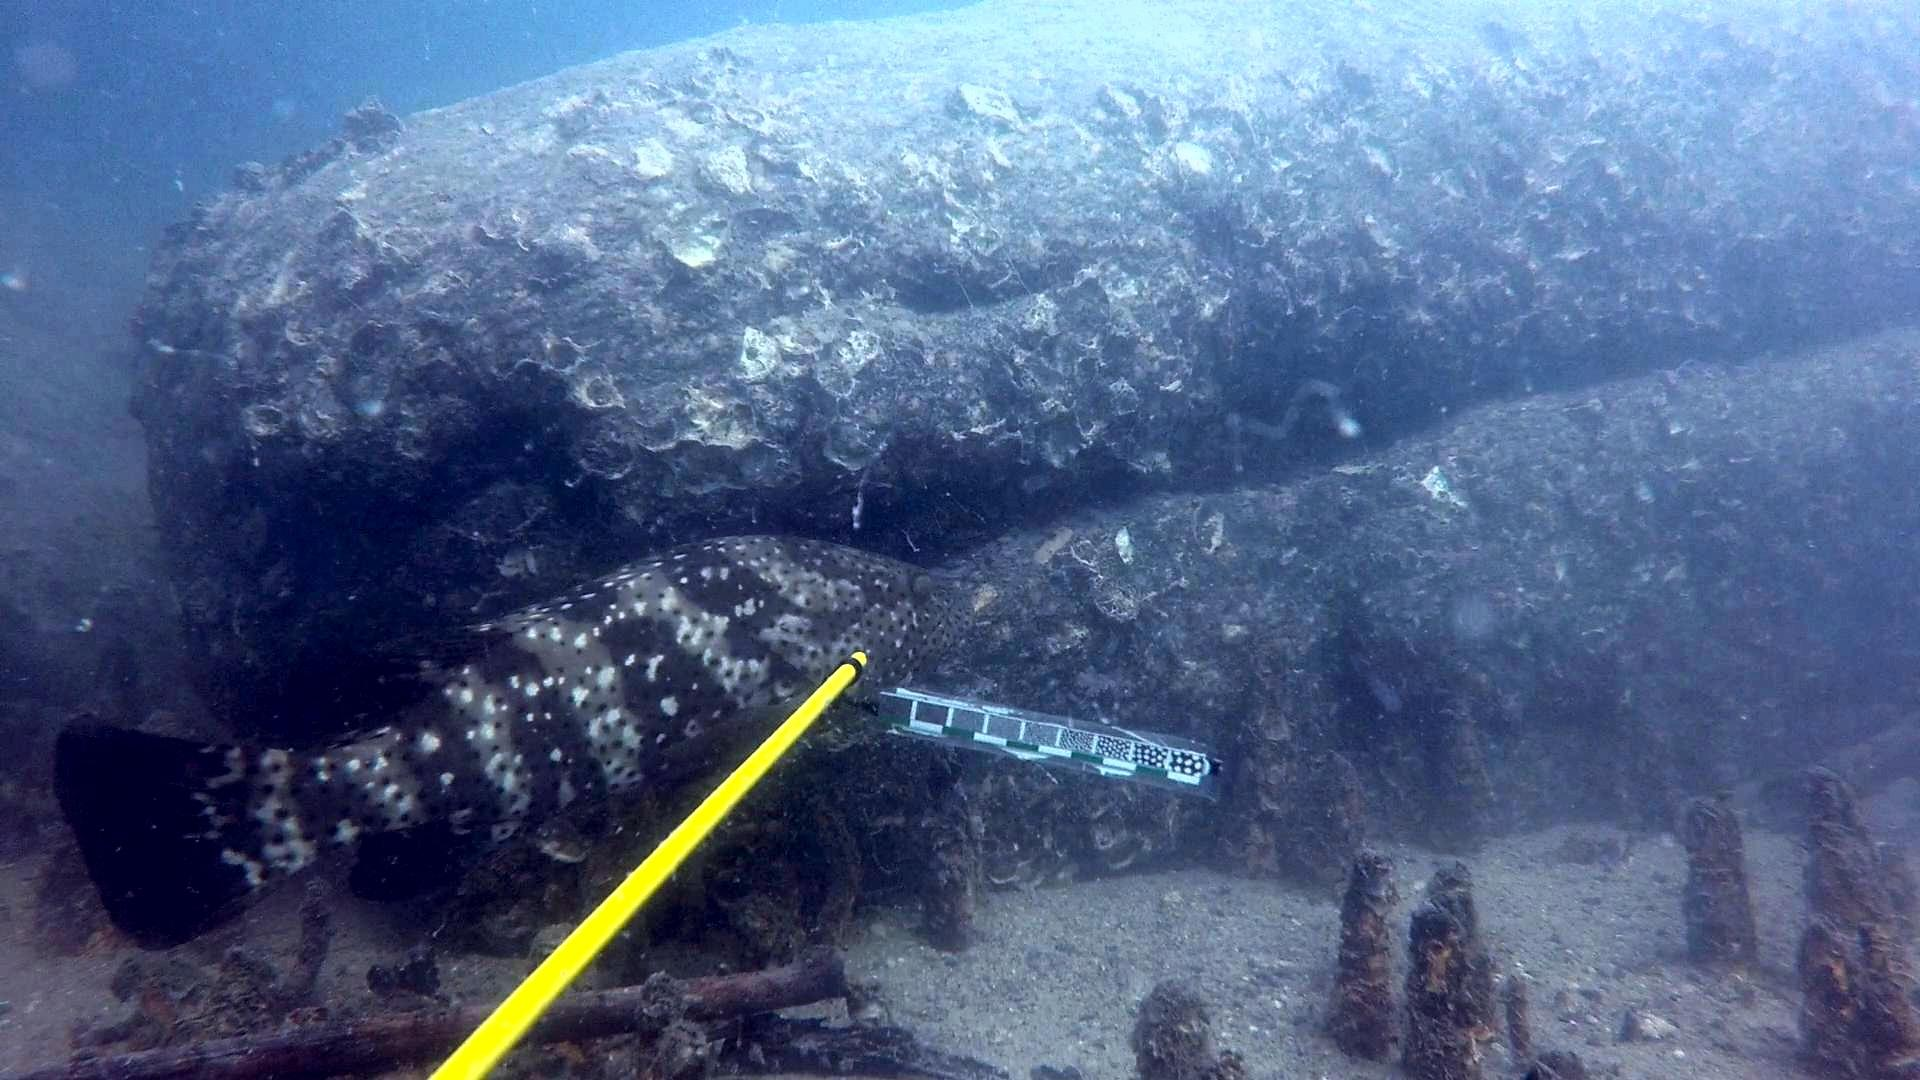epinephelus: (47, 530, 985, 956)
